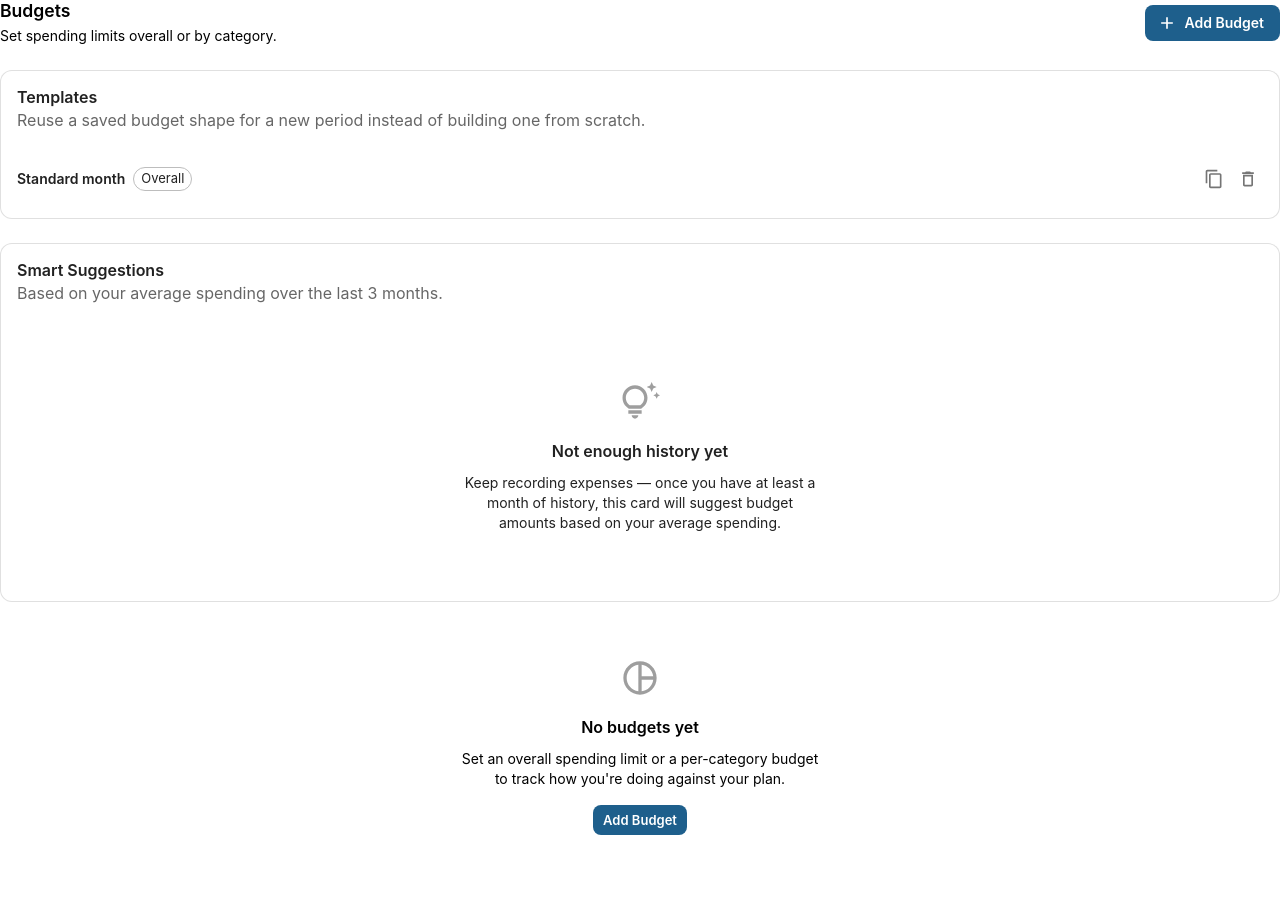
Scenario: BudgetsPage › opens the create dialog pre-filled when a template is used
This screenshot has width=1280, height=900.
Click the button named "Use template Standard month".
click(1214, 179)  # box top-left (1199, 164), bottom-right (1229, 194)
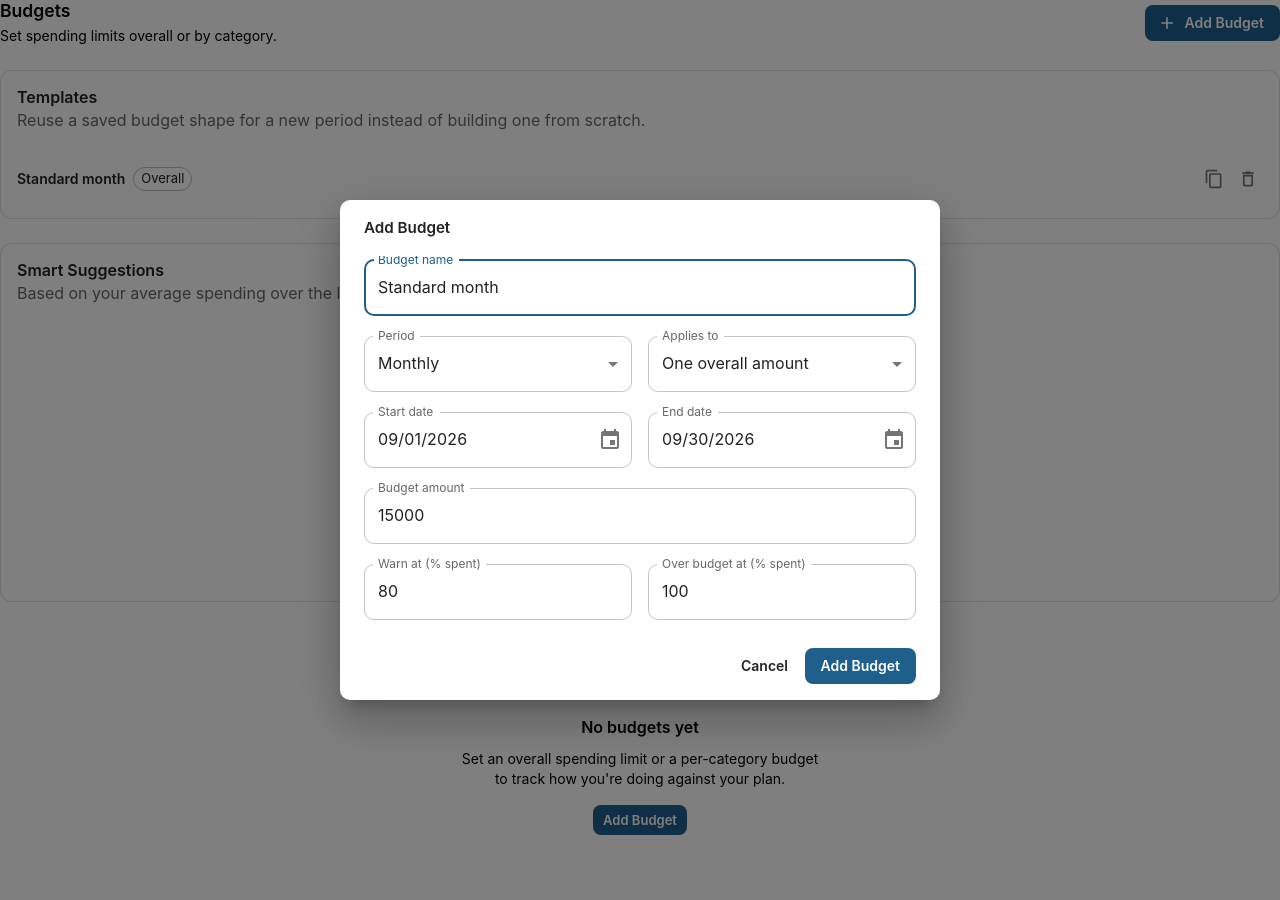
Expected: the field showing "Standard month" is shown, top-left (364, 260), bottom-right (916, 316)
Expected: the number field showing "15000" is shown, top-left (364, 488), bottom-right (916, 544)
